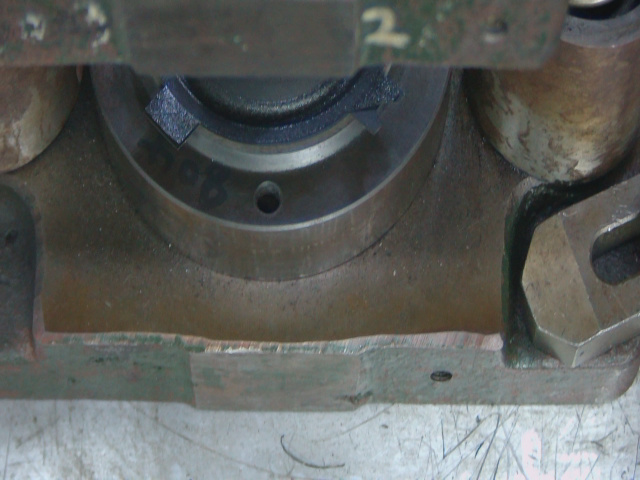HX1: (144, 88, 210, 154)
